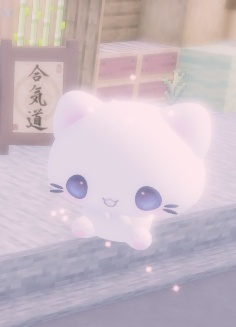urso_branco: (6, 0, 230, 262)
